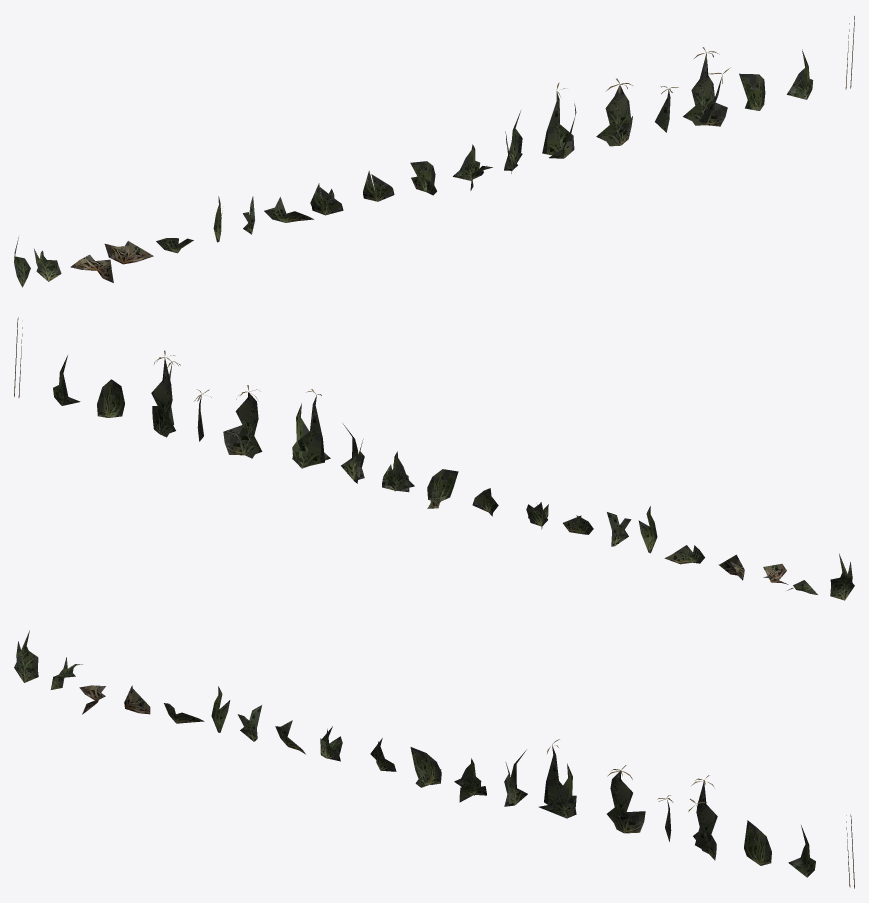
File: grass_bermuda_01.glb
The picture shows the model from 3 angles, top to bottom: view 1: azimuth 30°, elevation 25°; view 2: azimuth 150°, elevation 25°; view 3: azimuth 330°, elevation 25°; orthographic projection.
Visible parts, largest first — view 1: grass_bermuda_01_dead_a; view 2: grass_bermuda_01_dead_a; view 3: grass_bermuda_01_dead_a.
Part boxes in pixels (x1,y1,x2,y2): grass_bermuda_01_dead_a: [14, 16, 854, 287]; grass_bermuda_01_dead_a: [14, 317, 854, 600]; grass_bermuda_01_dead_a: [14, 630, 854, 888].
Size of the model in its own units: 1.69 by 0.1583 by 0.1379.
Materials: 1 (1 with a texture image).
